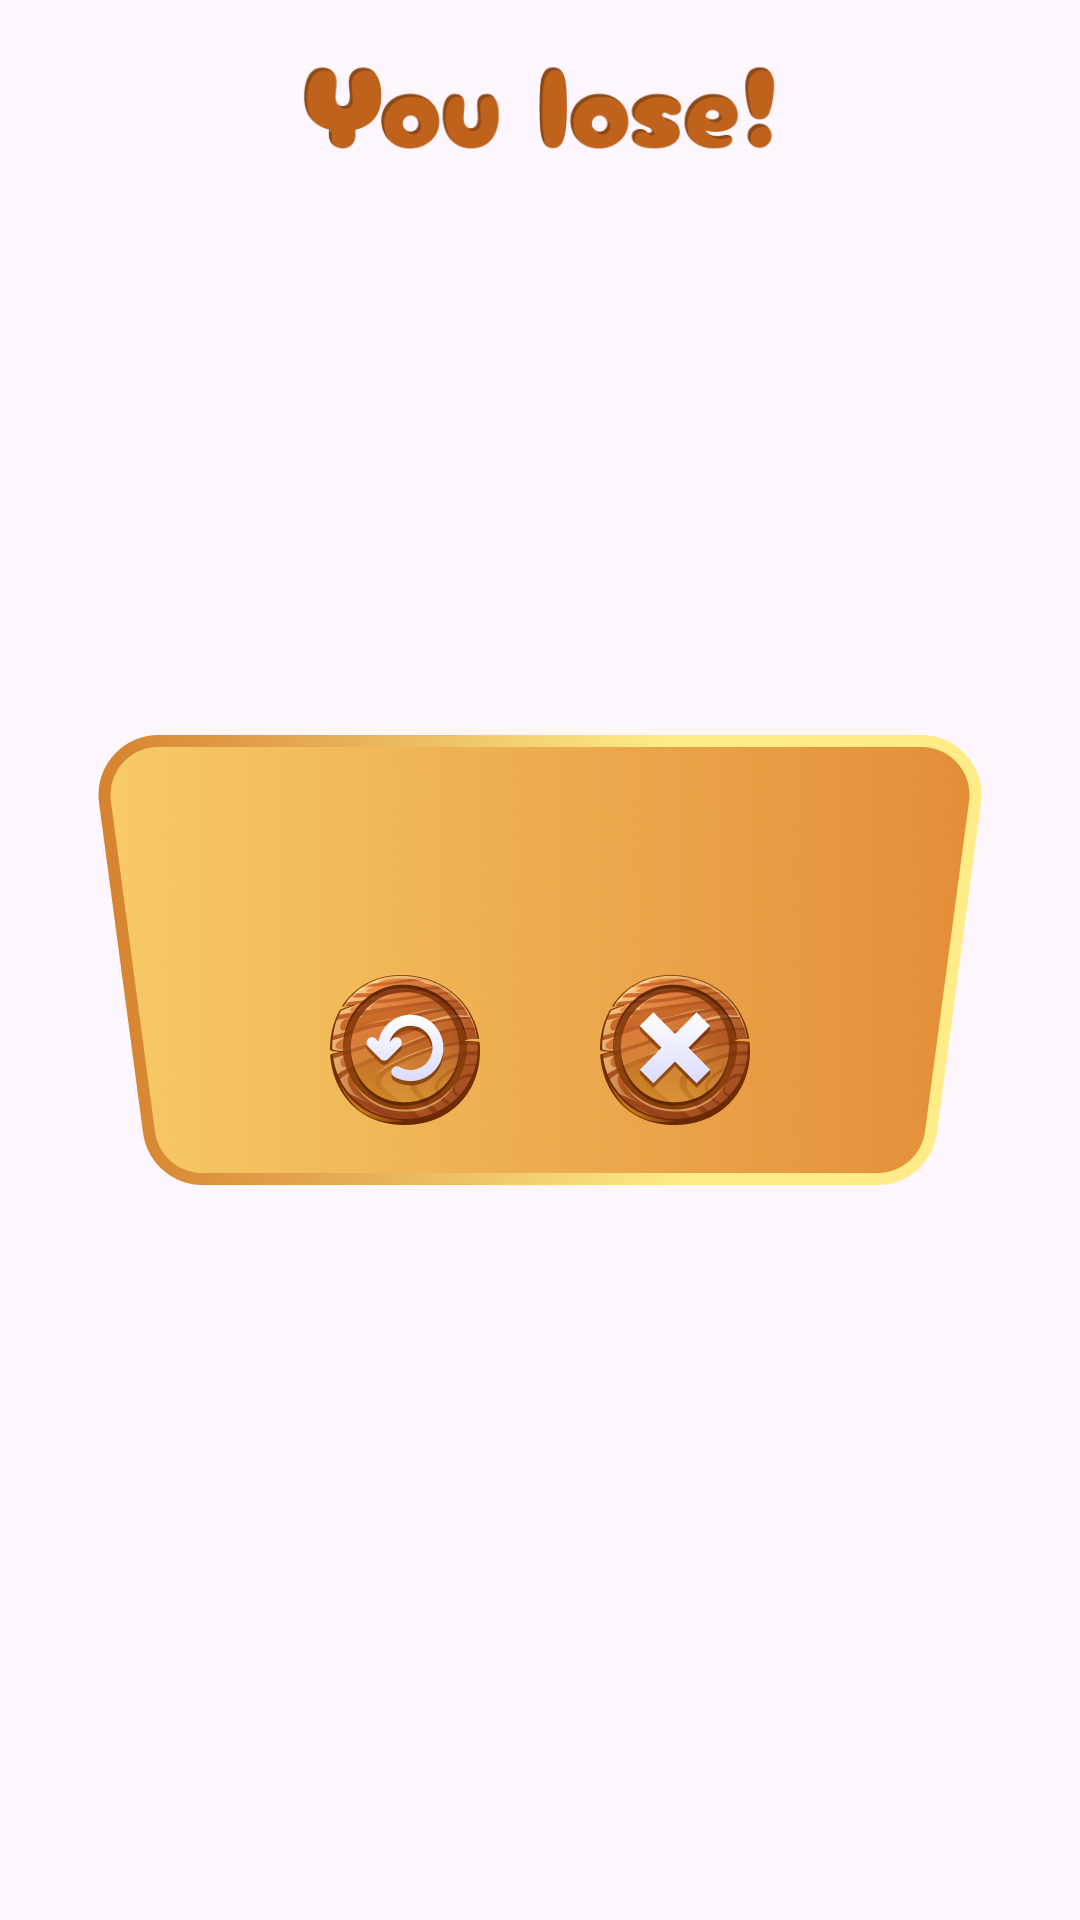

Screen size 1080 × 1920. Icon name, then its box in pixels as (x1, y1, x2, y2):
exit sel: (600, 975, 750, 1125)
retry sel: (330, 975, 480, 1125)
